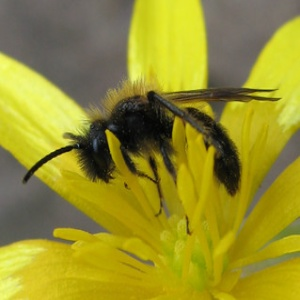bee: (70, 88, 258, 198)
